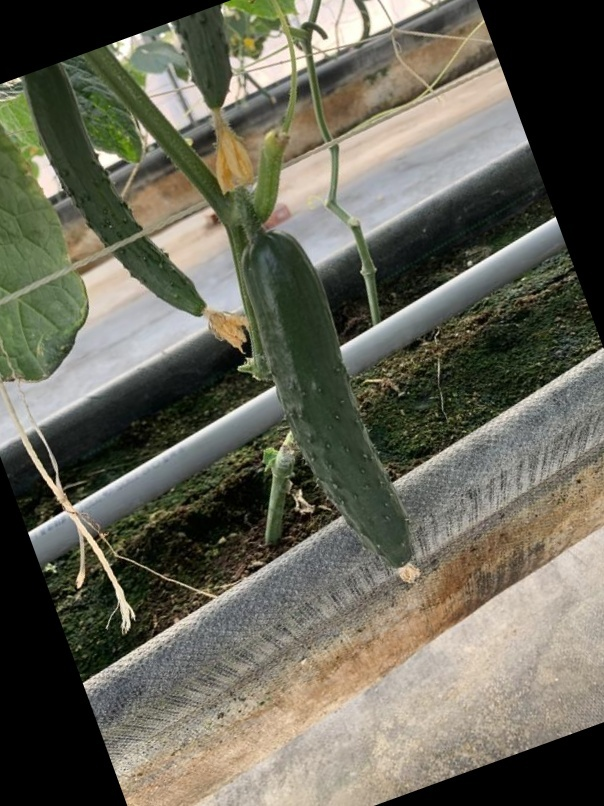mature: (236, 224, 418, 574), (23, 67, 215, 324)
